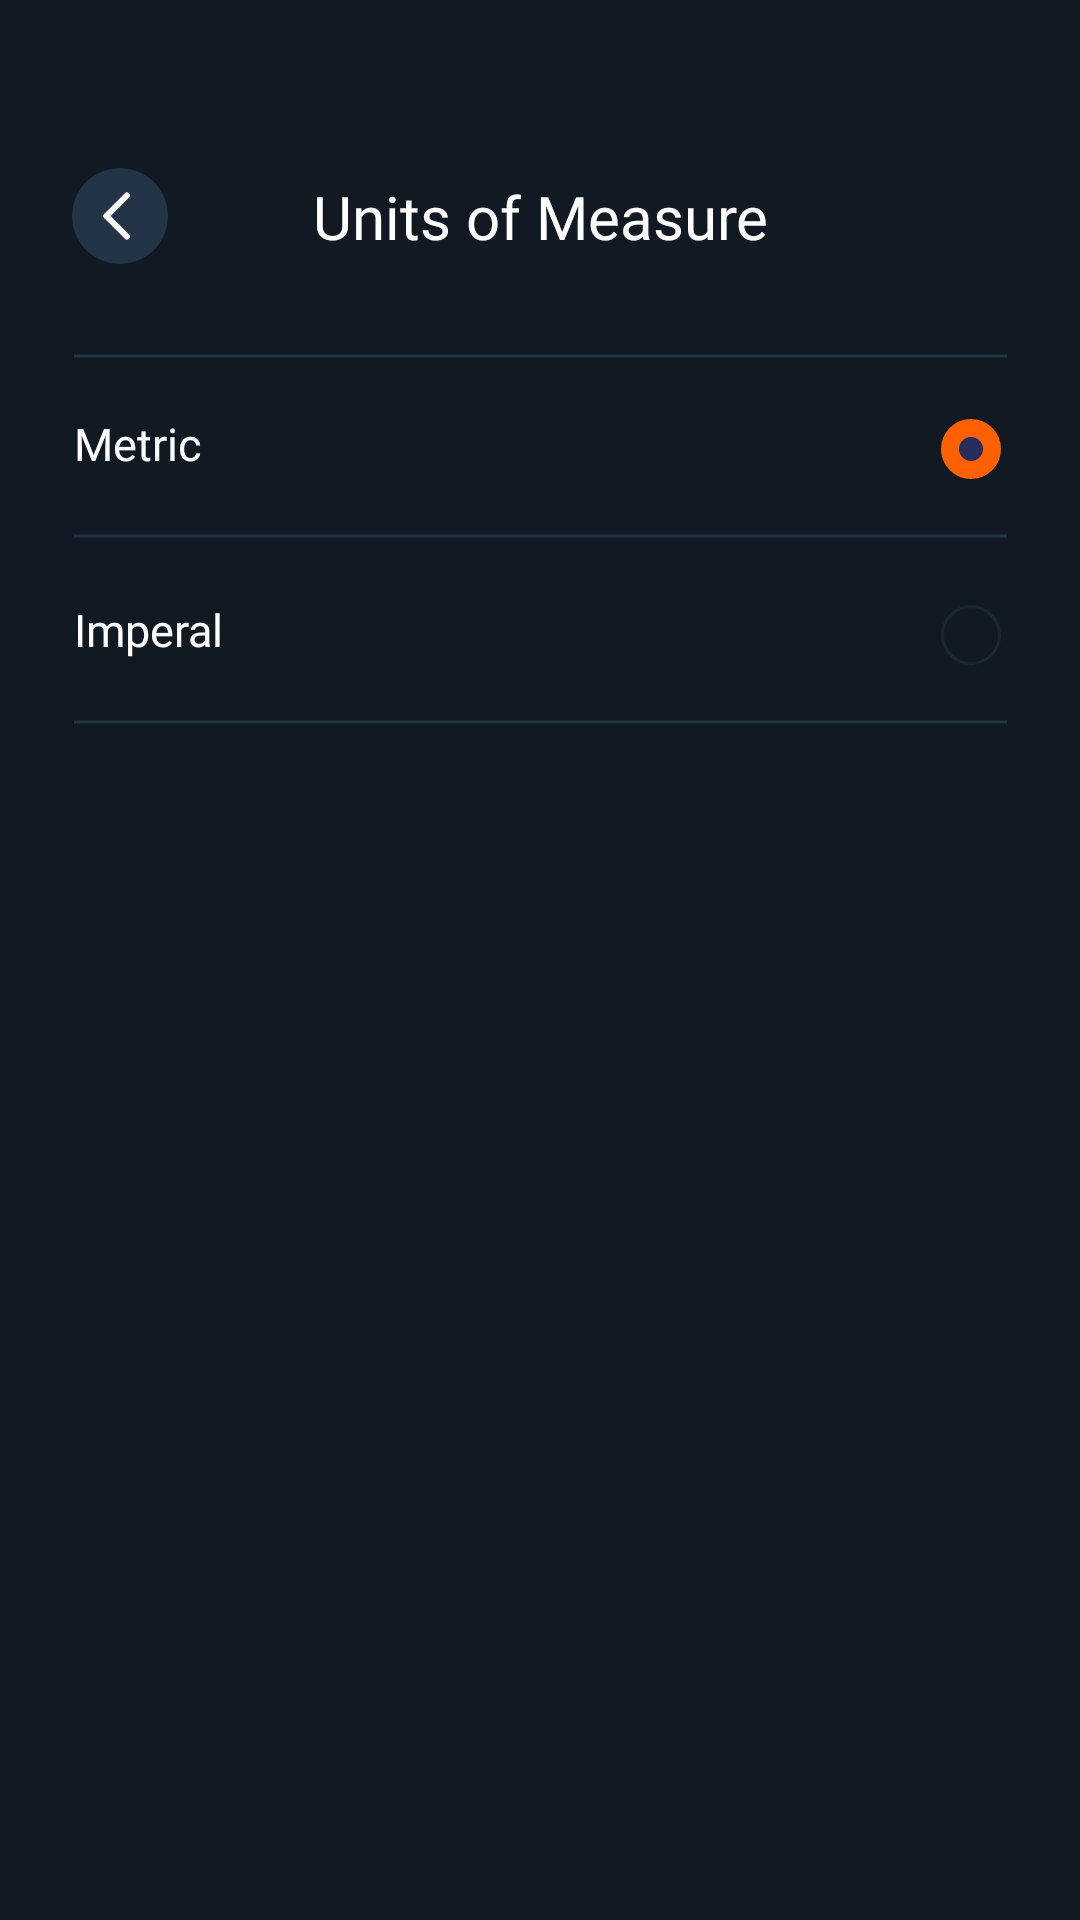

Named icons in this screenshot (1080 x 1920) and their centers, point (x, y):
checked true: point (971, 449)
profile back: point (120, 216)
